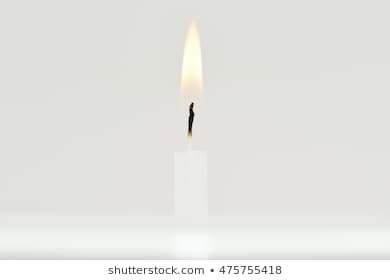Fire: (178, 18, 206, 143)
